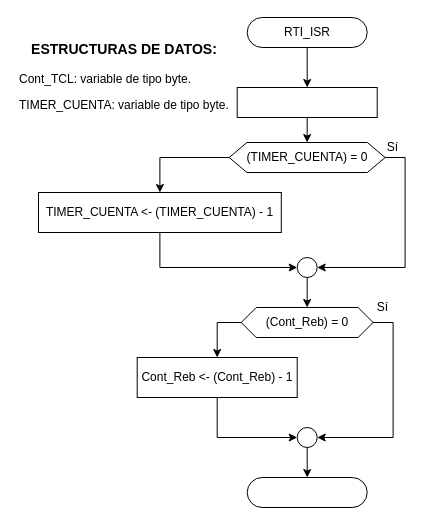
Some shapes in this 431 by 525 pixel diagram are drawn without their labels. The box of each missing label's shape, as (x1, y1, x2, y2) in pixels:
CRGFLG.7 <- 1: (236, 86, 377, 118)
RETORNAR: (246, 476, 367, 508)
